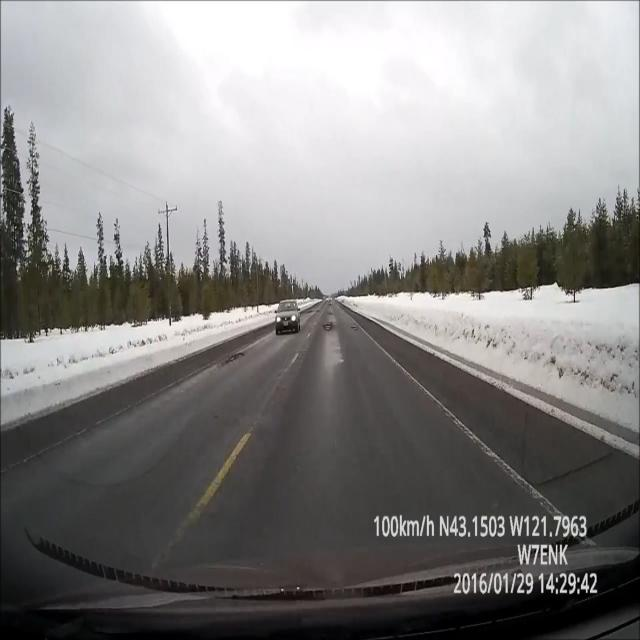Pothole: (322, 318, 336, 334)
